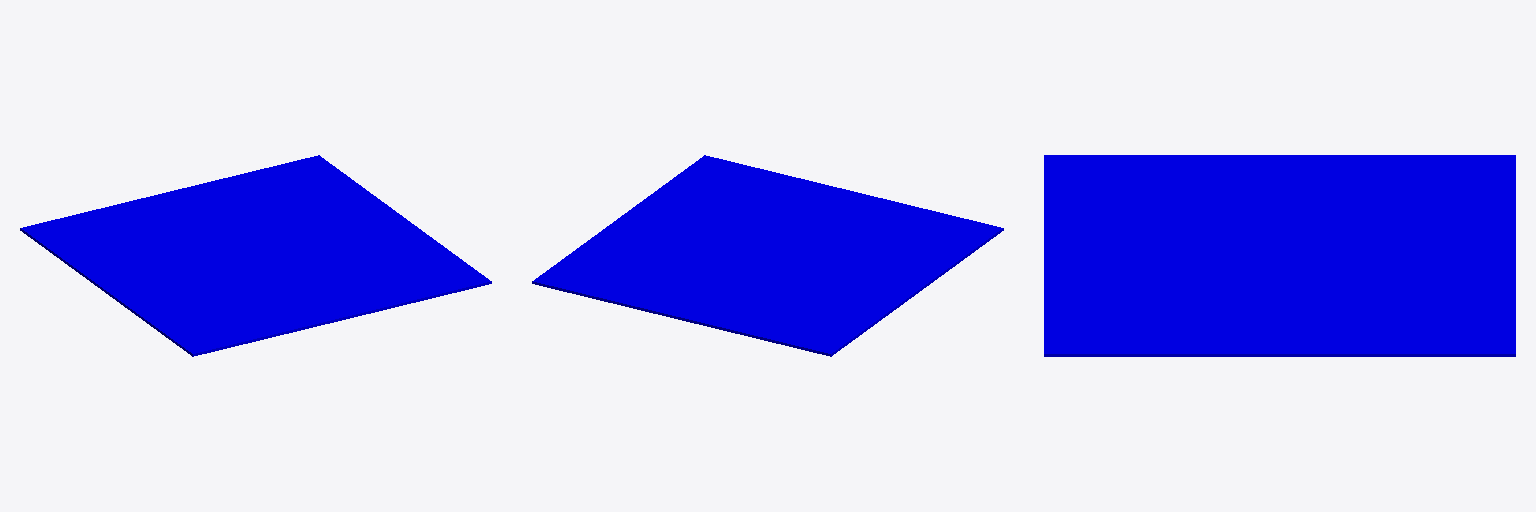
robot.urdf — goal_zone:
<?xml version="1.0" ?>
<robot name="goal_zone">
  <link name="base">
    <visual>
      <origin xyz="0 0 0" rpy="0 0 0"/>
      <geometry>
        <box size="0.12 0.12 0.001"/>
      </geometry>
      <material name="goal_color">
        <color rgba="0 0 1 0.4"/> <!-- green + transparent -->
      </material>
    </visual>
    <collision>
      <origin xyz="0 0 0" rpy="0 0 0"/>
      <geometry>
        <box size="0 0 0"/>
      </geometry>
    </collision>
    <inertial>
      <mass value="0.001"/>
      <inertia ixx="1e-5" iyy="1e-5" izz="1e-5"/>
    </inertial>
  </link>
</robot>

--- What the picture shows (computed from the rendered views, not written in the file) ---
The picture shows the robot from 3 angles, left to right: view 1: azimuth 30°, elevation 25°; view 2: azimuth 150°, elevation 25°; view 3: azimuth 270°, elevation 25°; orthographic projection.
Model goal_zone with 1 links and 0 joints (none), rooted at base, posed every joint at zero.
Visible links, largest first — view 1: base; view 2: base; view 3: base.
Link boxes in pixels (x1,y1,x2,y2): base: (20, 155, 491, 356); base: (532, 155, 1003, 356); base: (1044, 155, 1515, 356).
Bounding box of the posed robot: 0.12 × 0.12 × 0.001 m (x, y, z).
Geometry: primitives only (box / cylinder / sphere), no mesh files.
